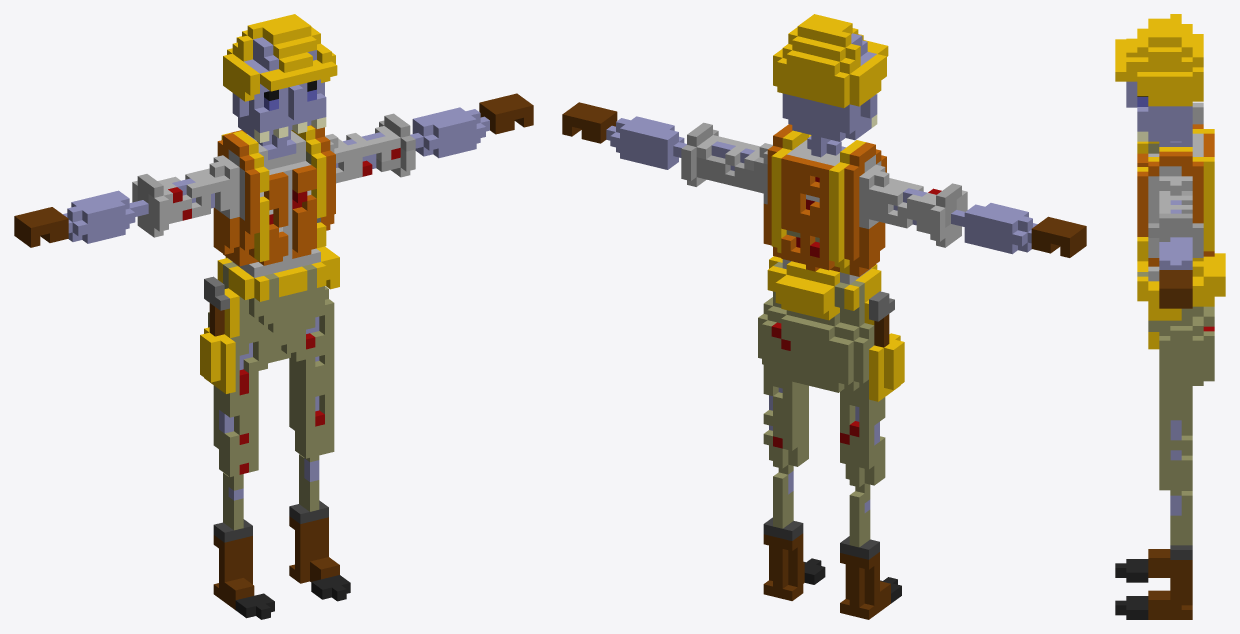
The model's file is zombie_worker.obj.
3 renders of one model, left to right at view 1: azimuth 30°, elevation 25°; view 2: azimuth 150°, elevation 25°; view 3: azimuth 270°, elevation 25°, orthographic.
Size of the model in its own units: 5.3 by 5.7 by 1.
Materials: 1 (1 with a texture image).
